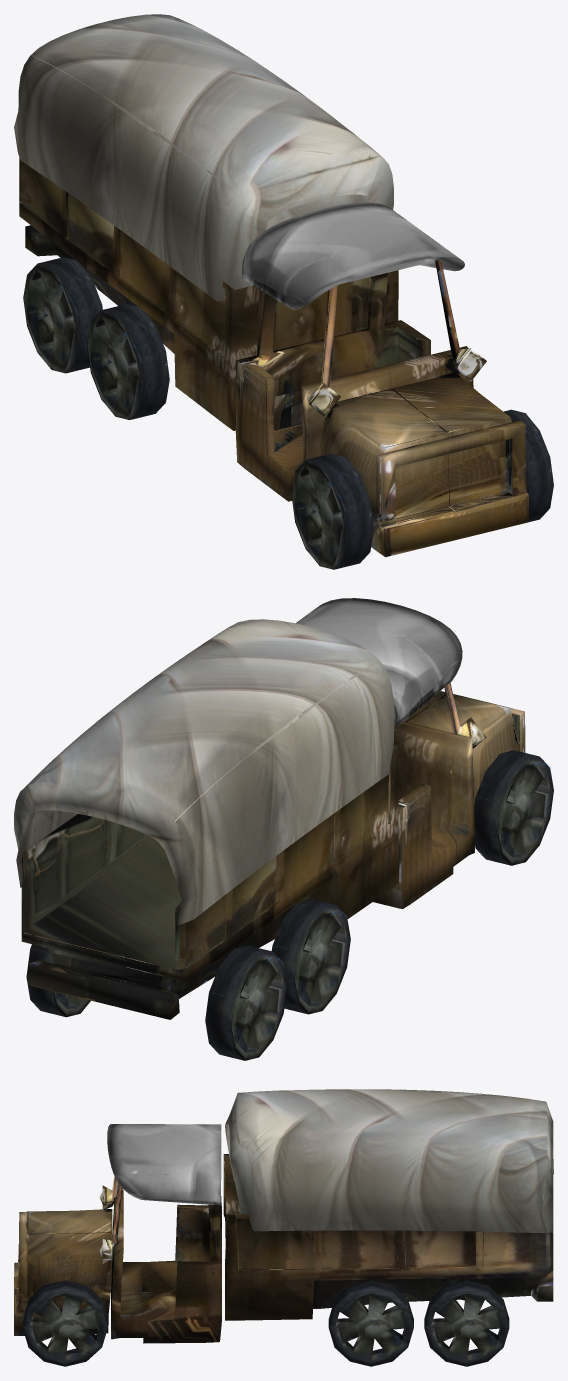
Rendered from libertytruck.fbx.
The picture shows the model from 3 angles, top to bottom: view 1: azimuth 30°, elevation 25°; view 2: azimuth 150°, elevation 25°; view 3: azimuth 270°, elevation 25°; orthographic projection. The views are drawn at different scales.
Parts seen in each view (by area): view 1: Plane, SurfPatch, SurfCurve, Cylinder_001, Cylinder_002, Cylinder_005, Cylinder_008; view 2: SurfPatch, Plane, SurfCurve, Cylinder_005, Cylinder_001, Cylinder_002, Cylinder_004; view 3: Plane, SurfPatch, SurfCurve, Cylinder_004, Cylinder_008, Cylinder_003.
Part boxes in pixels (left/top/right/bottom): Plane: left=19, top=158, right=529, bottom=557; SurfPatch: left=14, top=14, right=393, bottom=301; SurfCurve: left=242, top=202, right=464, bottom=309; Cylinder_001: left=291, top=453, right=373, bottom=569; Cylinder_002: left=87, top=304, right=169, bottom=419; Cylinder_005: left=23, top=257, right=102, bottom=373; Cylinder_008: left=504, top=409, right=553, bottom=521; SurfPatch: left=14, top=619, right=394, bottom=925; Plane: left=21, top=682, right=525, bottom=1019; SurfCurve: left=296, top=598, right=462, bottom=726; Cylinder_005: left=205, top=945, right=287, bottom=1060; Cylinder_001: left=474, top=750, right=553, bottom=865; Cylinder_002: left=271, top=899, right=350, bottom=1014; Cylinder_004: left=26, top=944, right=90, bottom=1017; Plane: left=14, top=1154, right=553, bottom=1343; SurfPatch: left=225, top=1089, right=553, bottom=1233; SurfCurve: left=107, top=1124, right=221, bottom=1205; Cylinder_004: left=424, top=1280, right=509, bottom=1366; Cylinder_008: left=22, top=1280, right=107, bottom=1366; Cylinder_003: left=328, top=1280, right=413, bottom=1366.
Bounding box in the file's own units: 3.26 × 4.55 × 9.81.
